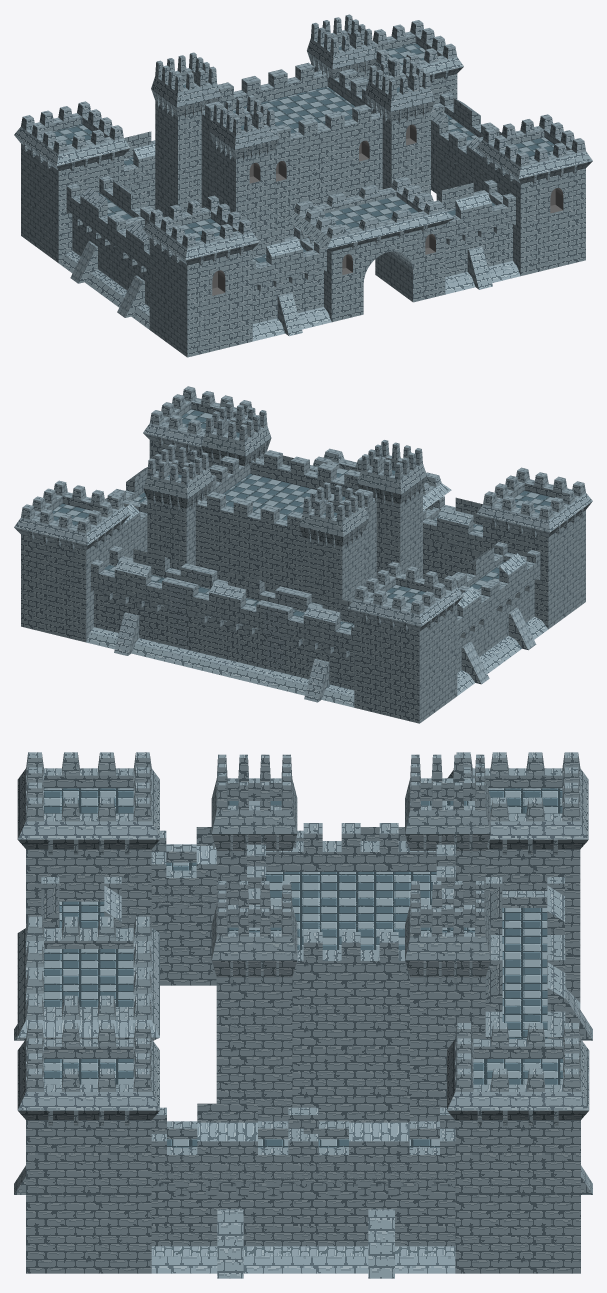
Rendered from Castelo.fbx.
The picture shows the model from 3 angles, top to bottom: view 1: azimuth 30°, elevation 25°; view 2: azimuth 150°, elevation 25°; view 3: azimuth 270°, elevation 25°; orthographic projection. The views are drawn at different scales.
Parts seen in each view (by area): view 1: Cube.029, Cube.046; view 2: Cube.029, Cube.046; view 3: Cube.029, Cube.046.
Part boxes in pixels (x1,y1,x2,y2): Cube.029: (14, 14, 592, 357); Cube.046: (53, 43, 554, 263); Cube.029: (14, 386, 592, 723); Cube.046: (52, 409, 553, 629); Cube.029: (14, 752, 592, 1278); Cube.046: (44, 788, 562, 1147).
Bounding box in the file's own units: 2693 × 1079 × 1972.
3 materials, 2 textured.
